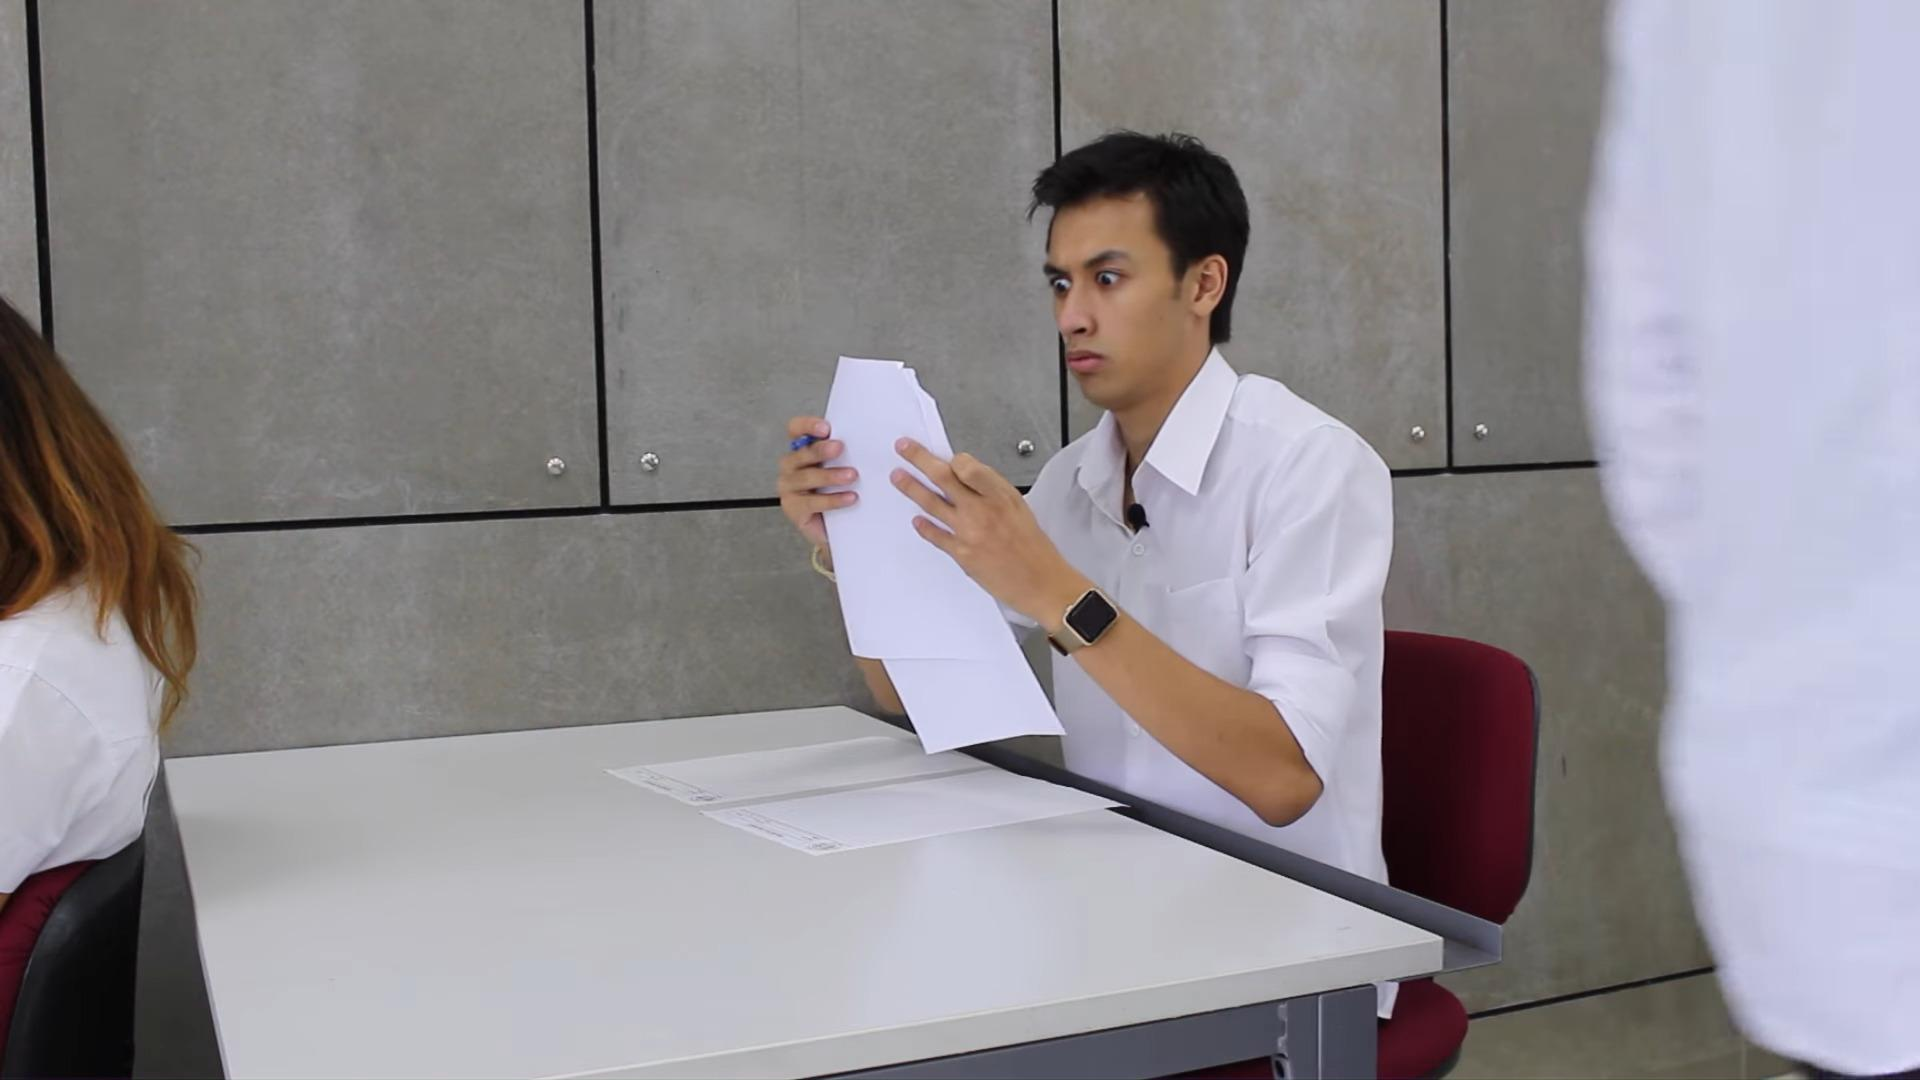good: (585, 105, 1431, 913)
